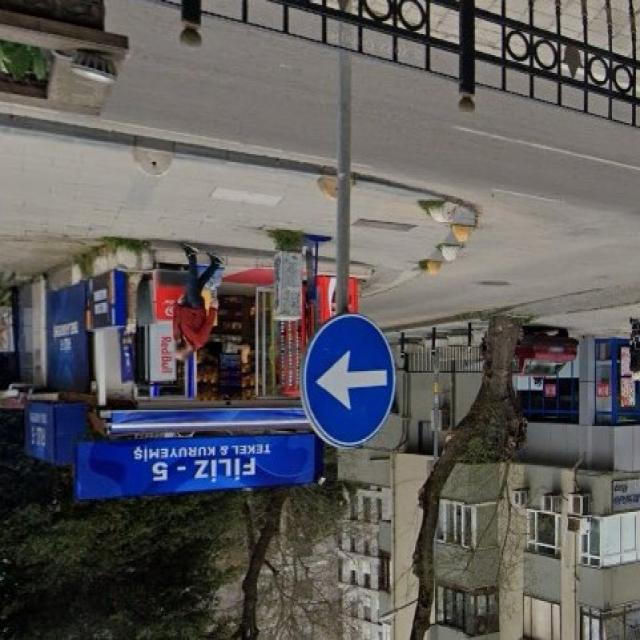Turn Left: (298, 315, 400, 448)
